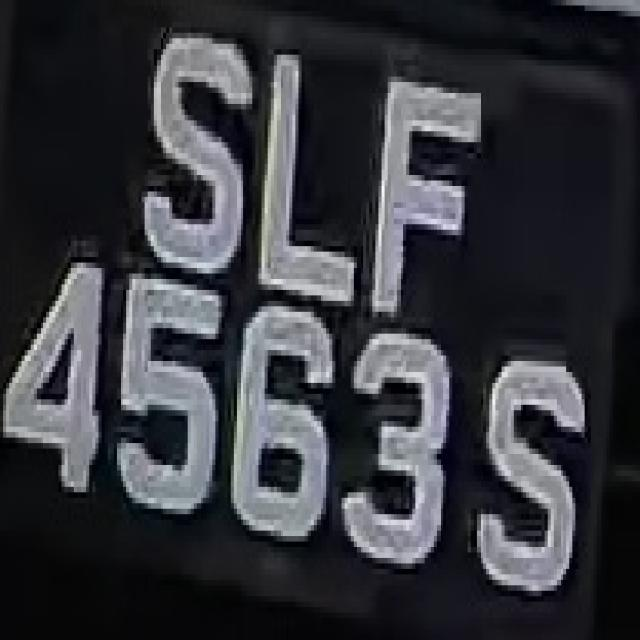3: (351, 301, 458, 574)
4: (9, 235, 111, 503)
5: (101, 246, 222, 520)
6: (222, 279, 332, 558)
F: (354, 55, 495, 317)
L: (252, 22, 370, 306)
S: (468, 317, 584, 613), (136, 11, 250, 279)
